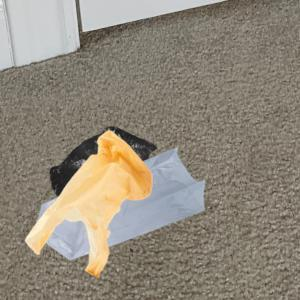plastic_bag: (25, 130, 153, 279)
